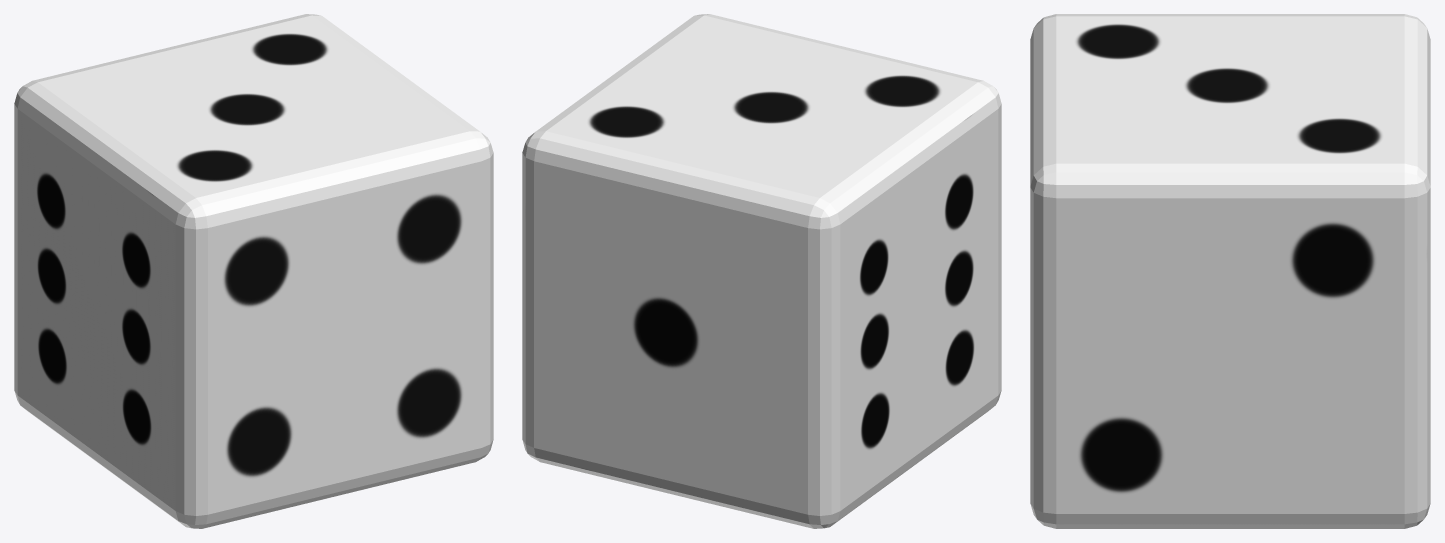
Rendered from dice.glb.
3 views of the same model, side by side, from view 1: azimuth 30°, elevation 25°; view 2: azimuth 150°, elevation 25°; view 3: azimuth 270°, elevation 25° (orthographic). The views are drawn at different scales.
Parts seen in each view (by area): view 1: Cube; view 2: Cube; view 3: Cube.
Boxes of the visible parts, bbox=[...] form: Cube: bbox=[14, 14, 493, 528]; Cube: bbox=[522, 14, 1001, 528]; Cube: bbox=[1030, 14, 1430, 528].
Bounding box in the file's own units: 2 × 2 × 2.
1 material, 1 textured.
